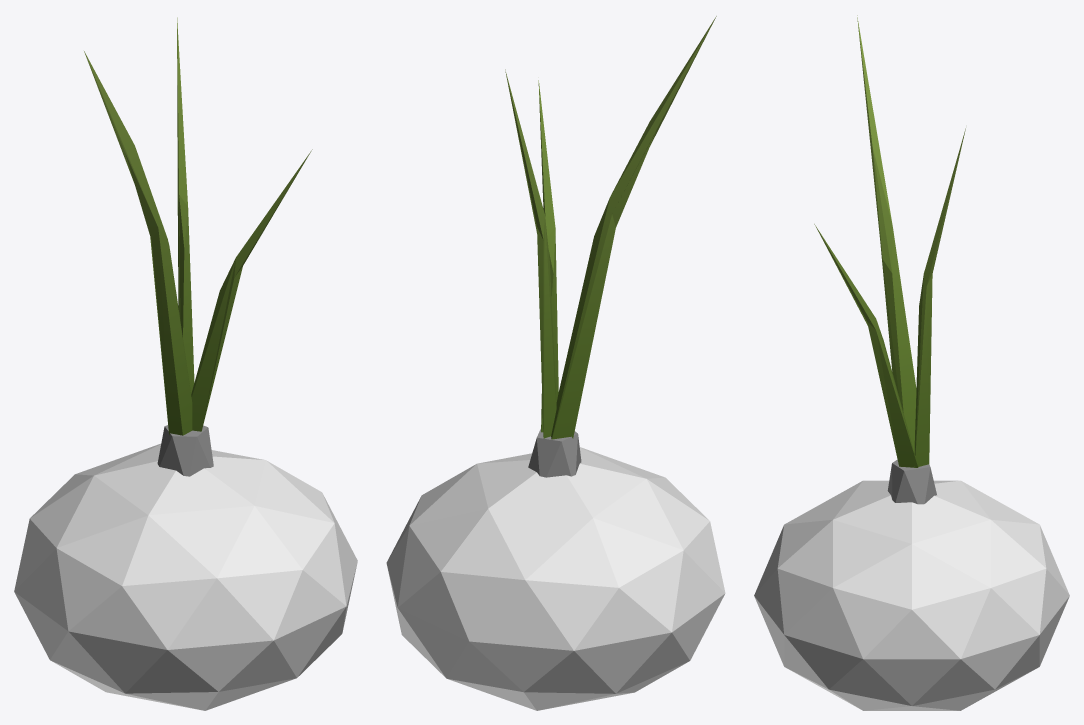
File: Garlic.fbx
3 renders of one model, left to right at view 1: azimuth 30°, elevation 25°; view 2: azimuth 150°, elevation 25°; view 3: azimuth 270°, elevation 25°, orthographic. The views are drawn at different scales.
Visible parts, largest first — view 1: Garlic; view 2: Garlic; view 3: Garlic.
Part boxes in pixels (x1,y1,x2,y2): Garlic: [14, 17, 357, 710]; Garlic: [386, 16, 725, 710]; Garlic: [754, 15, 1069, 710].
Bounding box in the file's own units: 0.1795 × 0.4209 × 0.1888.
